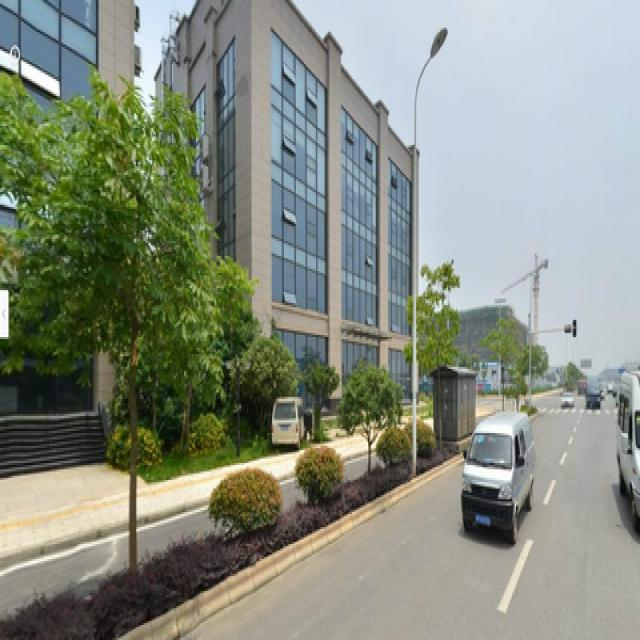sali: (68, 81, 199, 574)
